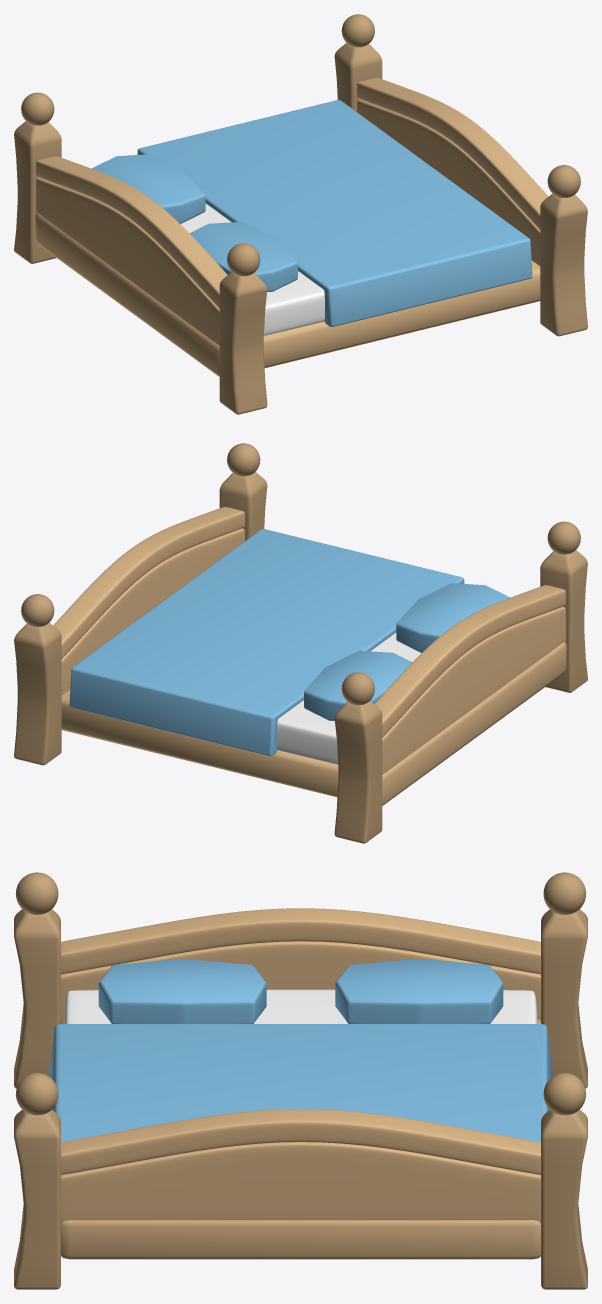
The model's file is double_bed.glb.
3 renders of one model, top to bottom at view 1: azimuth 30°, elevation 25°; view 2: azimuth 150°, elevation 25°; view 3: azimuth 270°, elevation 25°, orthographic. The views are drawn at different scales.
Visible parts, largest first — view 1: double_bed; view 2: double_bed; view 3: double_bed.
Part boxes in pixels (x1,y1,x2,y2): double_bed: (14,14,587,414); double_bed: (14,443,587,843); double_bed: (14,872,587,1289).
Bounding box in the file's own units: 1.82 × 0.7934 × 2.
